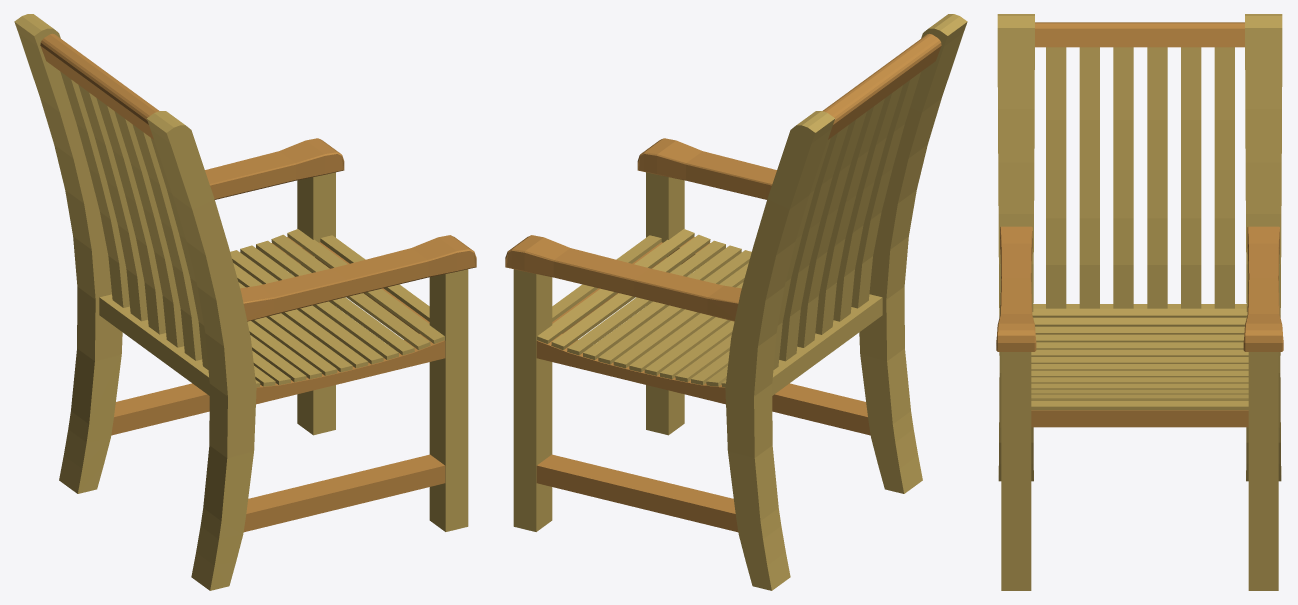
Rendered from silla_teca.obj.
3 views of the same model, side by side, from view 1: azimuth 30°, elevation 25°; view 2: azimuth 150°, elevation 25°; view 3: azimuth 270°, elevation 25° (orthographic). The views are drawn at different scales.
Visible parts, largest first — view 1: theca_chair_Cube.001; view 2: theca_chair_Cube.001; view 3: theca_chair_Cube.001.
Boxes of the visible parts, box(x1,y1,x2,y2) form: theca_chair_Cube.001: box(14, 14, 476, 590); theca_chair_Cube.001: box(505, 14, 967, 590); theca_chair_Cube.001: box(996, 14, 1283, 590).
Size of the model in its own units: 0.5724 by 0.8348 by 0.4915.
